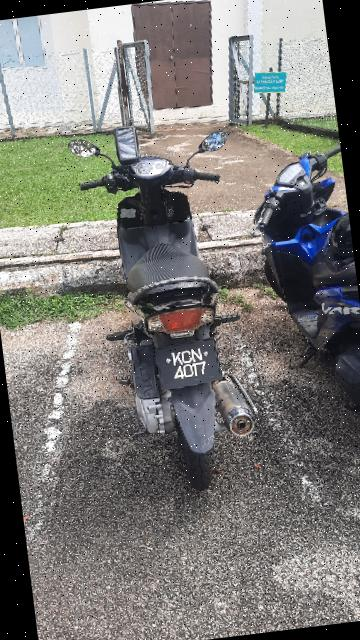License_Plate: (151, 335, 227, 395)
motorcycle: (62, 80, 288, 495)
